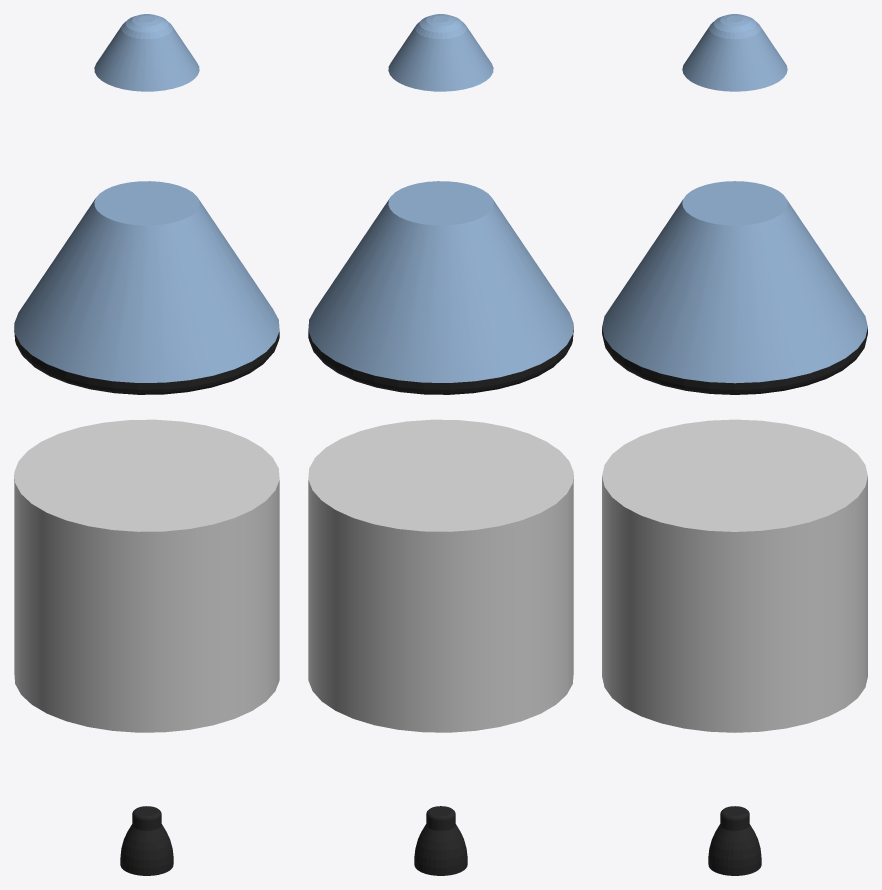
The model's file is Nave1.glb.
The picture shows the model from 3 angles, left to right: view 1: azimuth 30°, elevation 25°; view 2: azimuth 150°, elevation 25°; view 3: azimuth 270°, elevation 25°; orthographic projection.
Visible parts, largest first — view 1: tank, capsule, nose_cone, Engine; view 2: tank, capsule, nose_cone, Engine; view 3: tank, capsule, nose_cone, Engine.
Part boxes in pixels (x1=…): tank: x1=14, y1=419, x2=279, y2=732; capsule: x1=14, y1=181, x2=279, y2=394; nose_cone: x1=94, y1=14, x2=199, y2=91; Engine: x1=120, y1=806, x2=173, y2=875; tank: x1=308, y1=419, x2=573, y2=732; capsule: x1=308, y1=181, x2=573, y2=394; nose_cone: x1=388, y1=14, x2=493, y2=91; Engine: x1=414, y1=806, x2=467, y2=875; tank: x1=602, y1=419, x2=867, y2=732; capsule: x1=602, y1=181, x2=867, y2=394; nose_cone: x1=682, y1=14, x2=787, y2=91; Engine: x1=708, y1=806, x2=761, y2=875.
Size of the model in its own units: 3.6 by 12.63 by 3.6.
